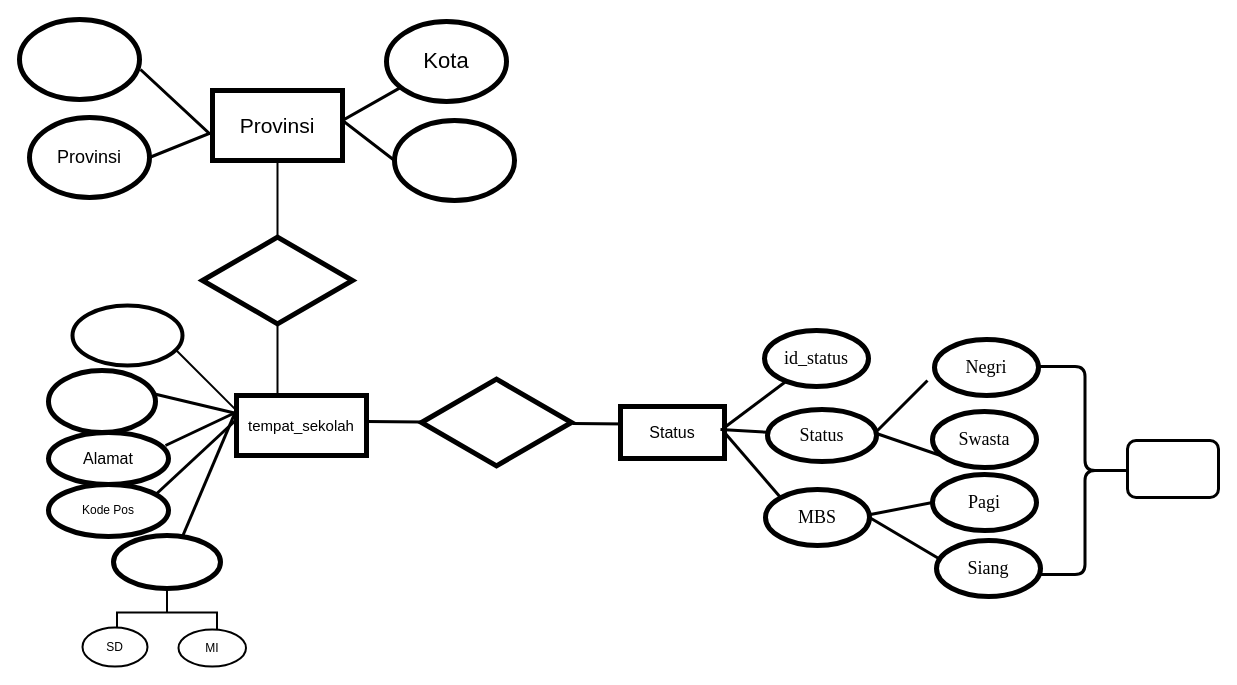
The diagram is 1237 pixels wide and 685 high, and some of its shapes have lost their labels. The shapes that lost their labels are listed below. From the top down, each one's centre as x and y in pixels, then its label:
At point 79,59: "Id_Provinsi".
At point 454,160: "Kecamatan".
At point 277,280: "tempat_lokasi".
At point 127,335: "id_sekiolah".
At point 102,401: "nama_sekolah".
At point 496,422: "Memiliki".
At point 1173,468: "and".
At point 166,561: "Jenis Sekolah".
